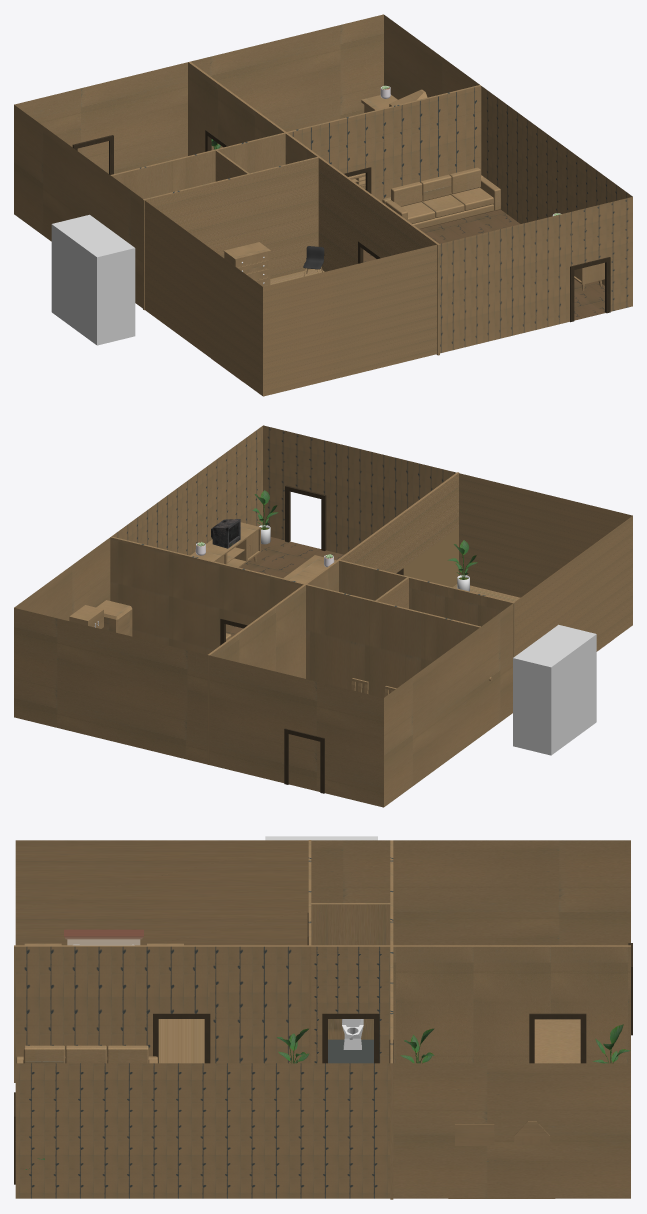
File: houseEnv (1).glb
The picture shows the model from 3 angles, top to bottom: view 1: azimuth 30°, elevation 25°; view 2: azimuth 150°, elevation 25°; view 3: azimuth 270°, elevation 25°; orthographic projection. The views are drawn at different scales.
Visible parts, largest first — view 1: Cube, Cube.003, Cube.011, ArmRest_8.001, Knob_2, Cube.007, cooker_hood.002_30, Circle; view 2: Cube, Cube.003, Cube.011, cooker_hood.002_30, Circle, Cube.007, Cube.005, TV, Object_2.001; view 3: Cube, Cube.003, ExtBottom_18, cooker_hood.002_30, Plane.006_10, Plane.009_17, Cube.008, Cube.006, Cube.004, Object_2, Cube.011.
Boxes of the visible parts, <box> form: Cube: <box>14,14,632,396</box>; Cube.003: <box>110,61,481,355</box>; Cube.011: <box>51,214,135,345</box>; ArmRest_8.001: <box>382,167,500,229</box>; Knob_2: <box>223,242,270,286</box>; Cube.007: <box>570,257,610,322</box>; cooker_hood.002_30: <box>361,89,427,112</box>; Circle: <box>574,262,604,290</box>; Cube: <box>14,425,632,807</box>; Cube.003: <box>110,472,514,764</box>; Cube.011: <box>513,624,596,755</box>; cooker_hood.002_30: <box>69,600,132,636</box>; Circle: <box>190,522,260,567</box>; Cube.007: <box>285,485,326,550</box>; Cube.005: <box>284,728,324,793</box>; TV: <box>211,519,240,548</box>; Object_2.001: <box>283,555,336,583</box>; Cube: <box>15,840,630,1198</box>; Cube.003: <box>14,840,630,1199</box>; ExtBottom_18: <box>16,1045,157,1063</box>; cooker_hood.002_30: <box>448,1121,554,1198</box>; Plane.006_10: <box>64,929,143,945</box>; Plane.009_17: <box>277,1024,630,1063</box>; Cube.008: <box>529,1013,586,1063</box>; Cube.006: <box>153,1013,210,1063</box>; Cube.004: <box>322,1013,379,1063</box>; Object_2: <box>342,1019,363,1049</box>; Cube.011: <box>265,836,377,840</box>.
Size of the model in its own units: 27.87 by 7.1 by 27.62.
Materials: 23 (10 with a texture image).
